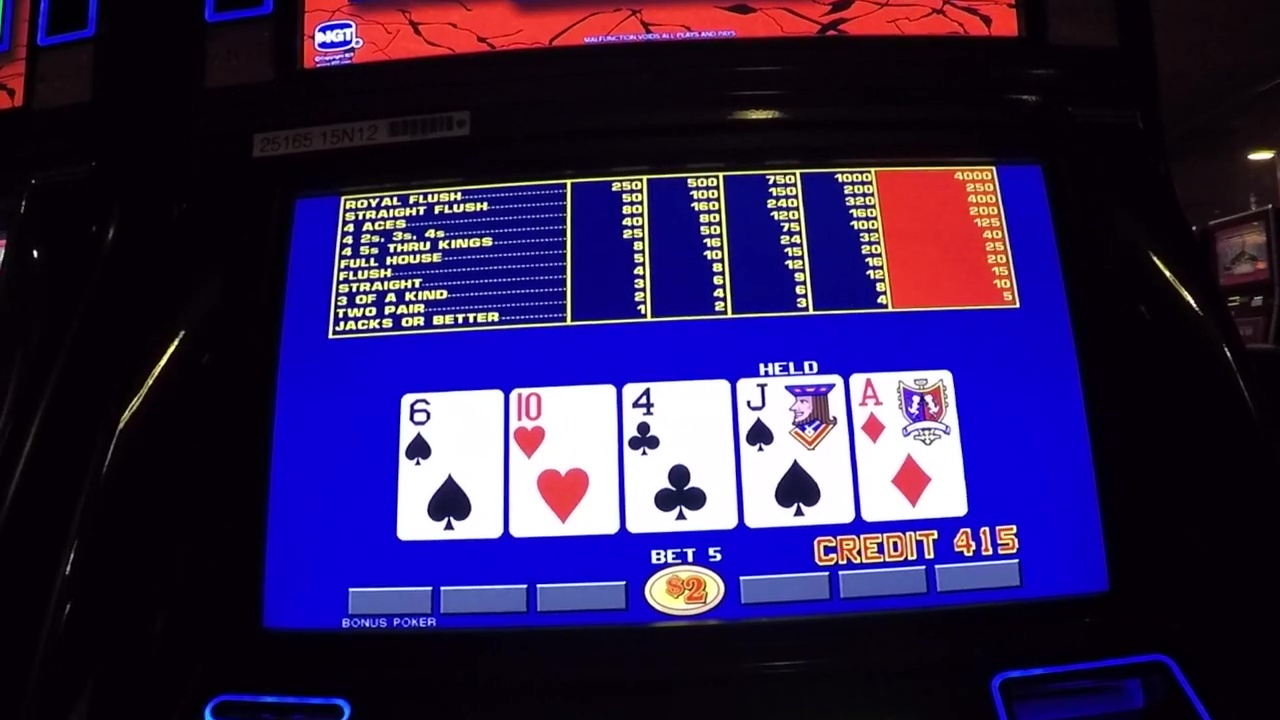C4: (624, 385, 732, 462)
DA: (850, 373, 954, 449)
HT: (510, 387, 617, 466)
S6: (401, 394, 503, 466)
SJ: (741, 379, 846, 458)
